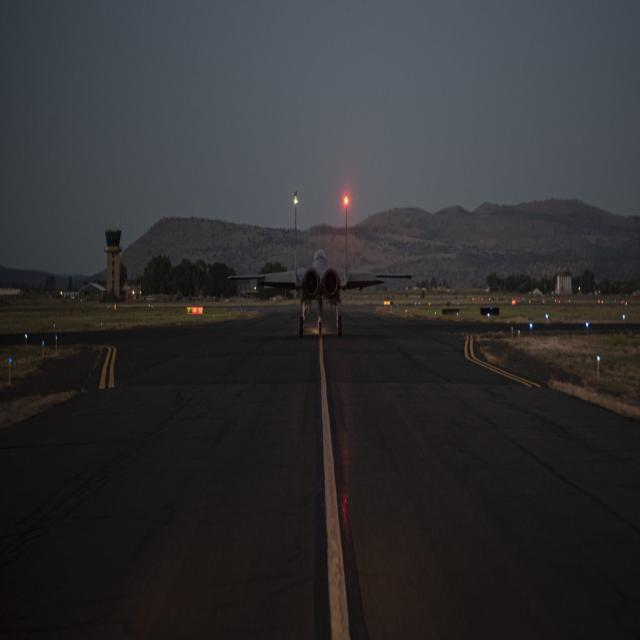MIL_Plane: (226, 190, 413, 336)
